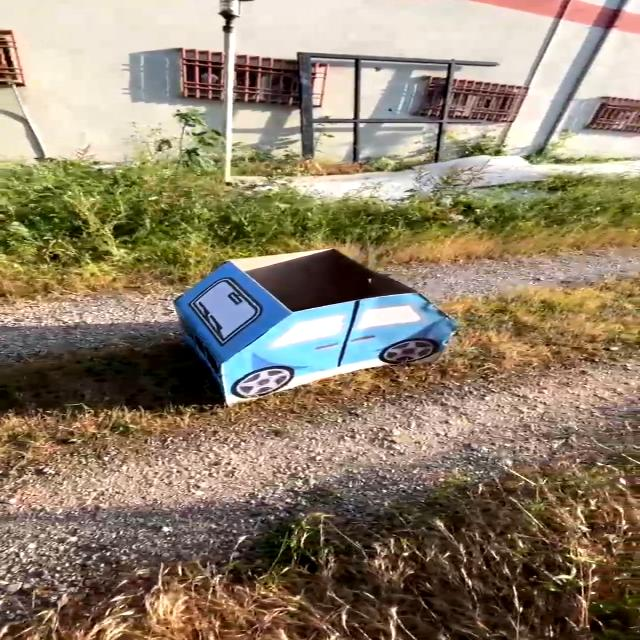blue_car: (127, 219, 477, 414)
